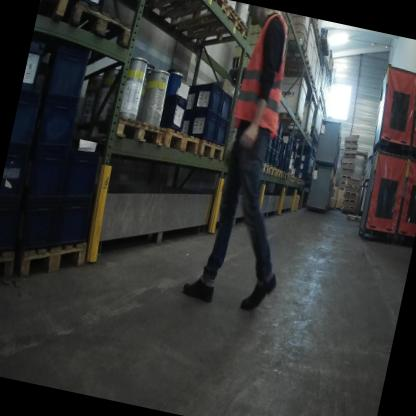pallet: (67, 95, 169, 155), (13, 226, 90, 298), (165, 0, 254, 62), (128, 0, 230, 45), (63, 0, 138, 53), (158, 120, 203, 157), (0, 247, 22, 295), (36, 0, 74, 26), (282, 50, 314, 80), (196, 136, 229, 165), (285, 61, 318, 89), (273, 109, 306, 131), (284, 124, 312, 141), (304, 20, 324, 42), (314, 40, 325, 58), (257, 159, 270, 174), (346, 213, 362, 225), (266, 162, 278, 177), (309, 81, 318, 99), (274, 164, 284, 180), (344, 144, 359, 154), (344, 137, 359, 147), (340, 166, 354, 176), (342, 150, 357, 159), (343, 189, 359, 197), (344, 182, 358, 191), (342, 197, 357, 205), (309, 124, 319, 136), (341, 159, 354, 168), (342, 204, 357, 211), (289, 173, 297, 185), (340, 172, 352, 179), (281, 170, 288, 182), (306, 135, 313, 147), (294, 178, 302, 188), (285, 171, 291, 184), (337, 186, 344, 194), (337, 179, 346, 185), (315, 133, 321, 142)
small_load_carrier: (25, 84, 88, 161), (8, 189, 68, 264), (16, 140, 76, 214), (41, 38, 95, 101), (52, 195, 98, 264), (62, 145, 103, 201), (0, 142, 37, 200), (10, 91, 44, 148), (22, 31, 53, 89), (187, 76, 228, 119), (0, 193, 28, 255), (187, 103, 222, 142), (176, 83, 200, 114), (216, 90, 236, 123), (211, 115, 230, 148), (174, 111, 195, 138), (274, 128, 296, 151), (72, 0, 112, 12), (264, 120, 278, 147), (259, 145, 273, 165), (274, 133, 284, 152), (272, 149, 281, 169), (268, 148, 276, 166), (281, 139, 289, 157), (283, 143, 291, 160), (270, 134, 278, 150), (279, 140, 286, 157), (276, 155, 285, 168), (281, 157, 288, 172), (284, 160, 290, 175), (275, 155, 282, 167), (287, 149, 293, 163)
